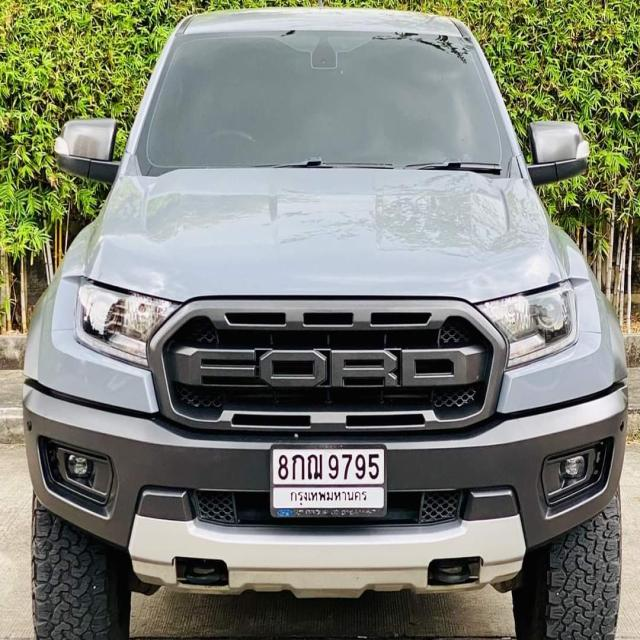license_plate: (270, 441, 387, 523)
